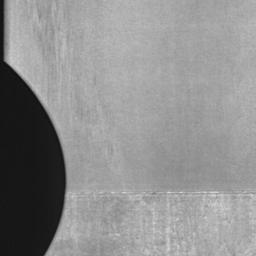Crescent gap: (0, 59, 66, 256)
